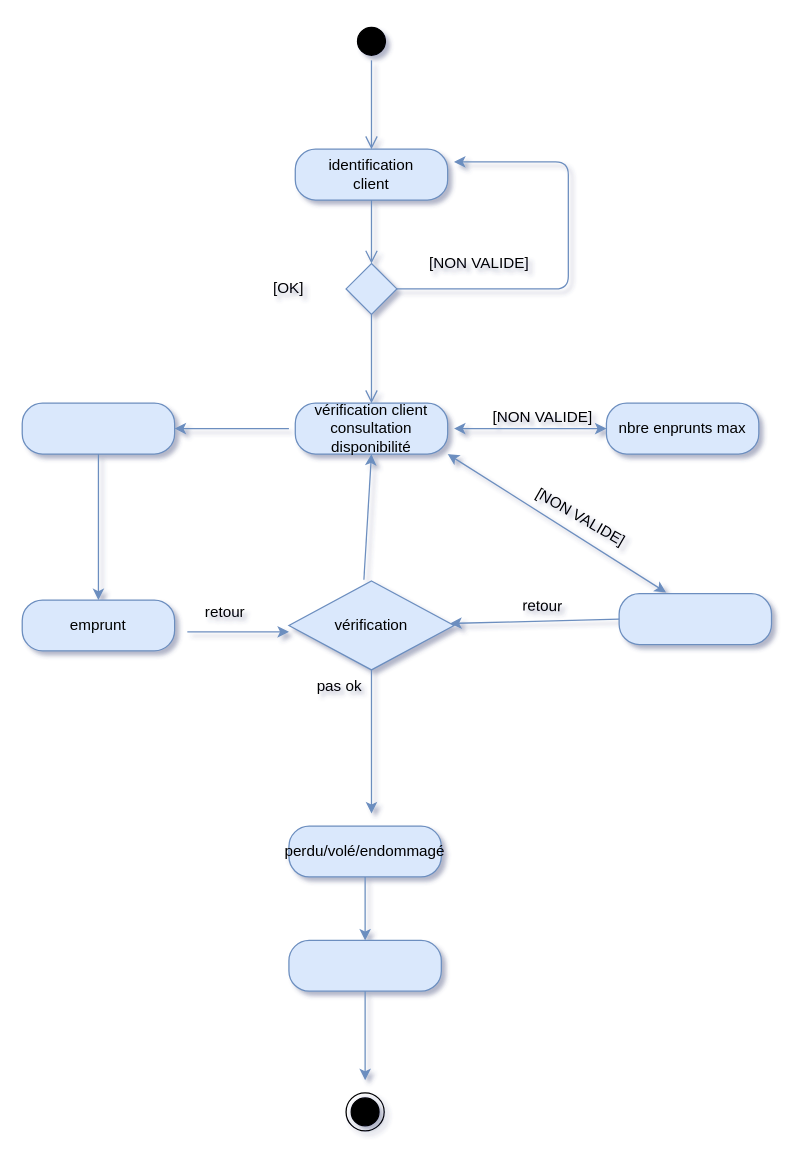
Image size: 801x1161. Some labels were removed from this diagram. Here are the shapes that lost their labels. From the top down, the centre of each, then its label:
At [98,428]: "création fiche d'emprunt".
At [695,618]: "en retard".
At [364,965]: "destruction".
